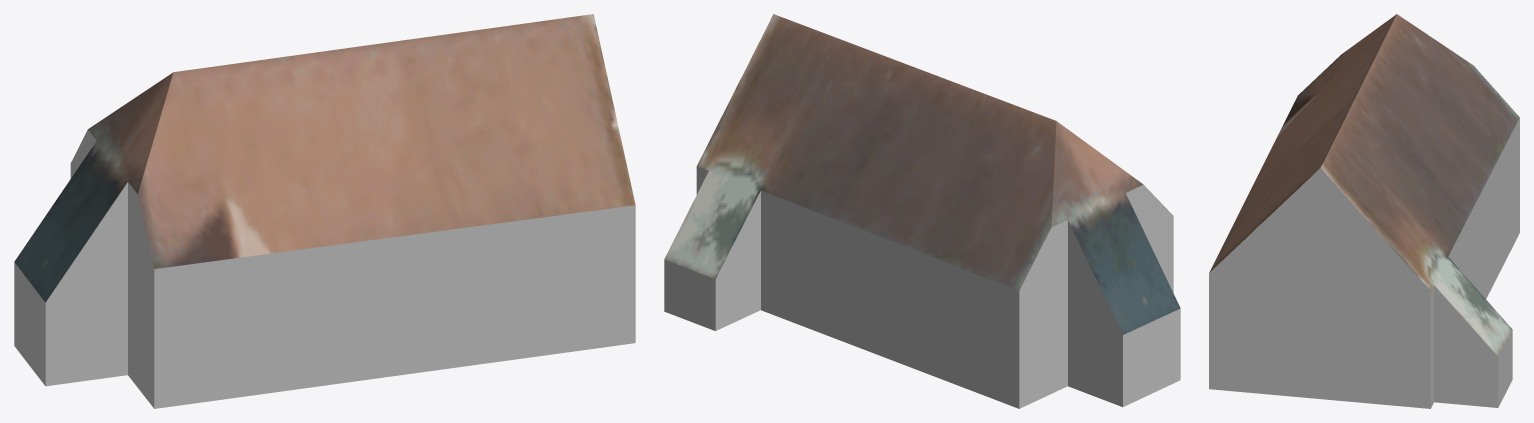
Rendered from DEBW_0010007TxhZ.gltf.
3 views of the same model, side by side, from view 1: azimuth 30°, elevation 25°; view 2: azimuth 150°, elevation 25°; view 3: azimuth 270°, elevation 25° (orthographic). The views are drawn at different scales.
Visible parts, largest first — view 1: Z_UP; view 2: Z_UP; view 3: Z_UP.
Part boxes in pixels (x1,y1,x2,y2): Z_UP: (14,14,635,408); Z_UP: (664,14,1180,408); Z_UP: (1209,14,1519,408).
Size of the model in its own units: 31.76 by 15.58 by 18.98.
2 materials, 1 textured.
